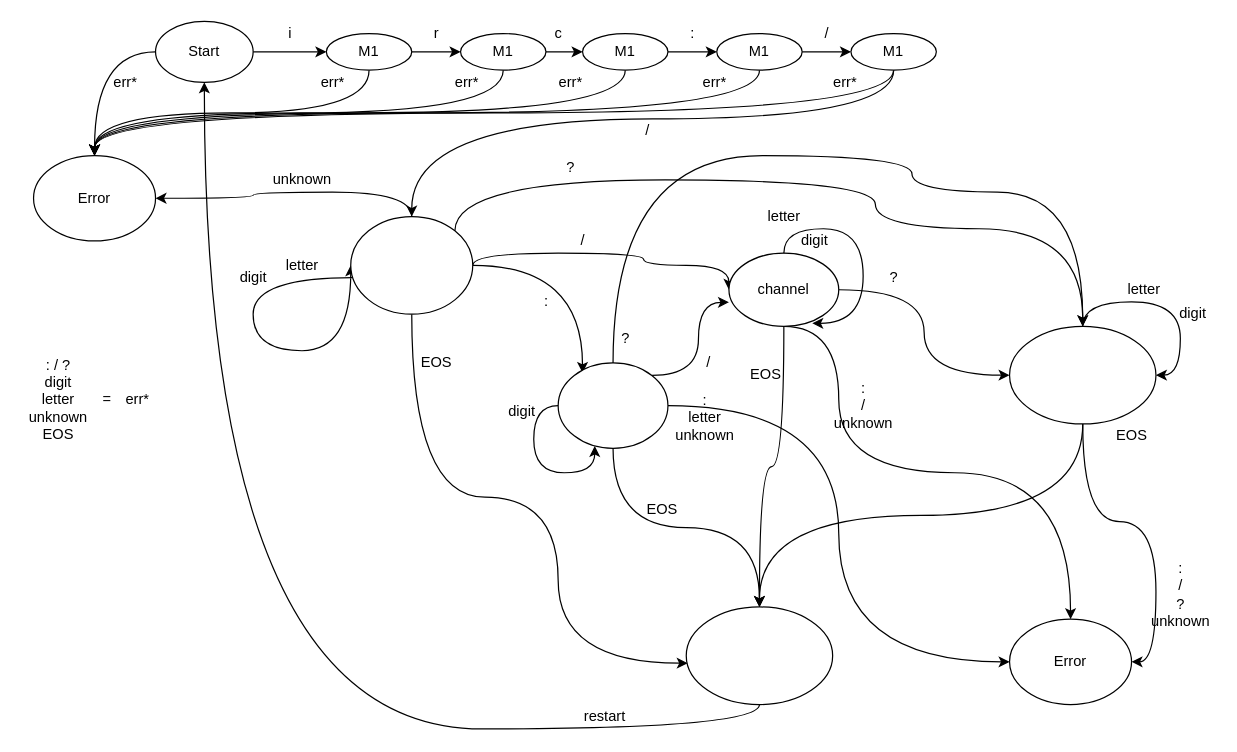
The diagram is 1237 pixels wide and 752 high, and some of its shapes have lost their labels. Each missing label, with the centre of its shape:
OK: [759,655]
Password: [1082,374]
Port: [612,405]
Server name: [411,264]
